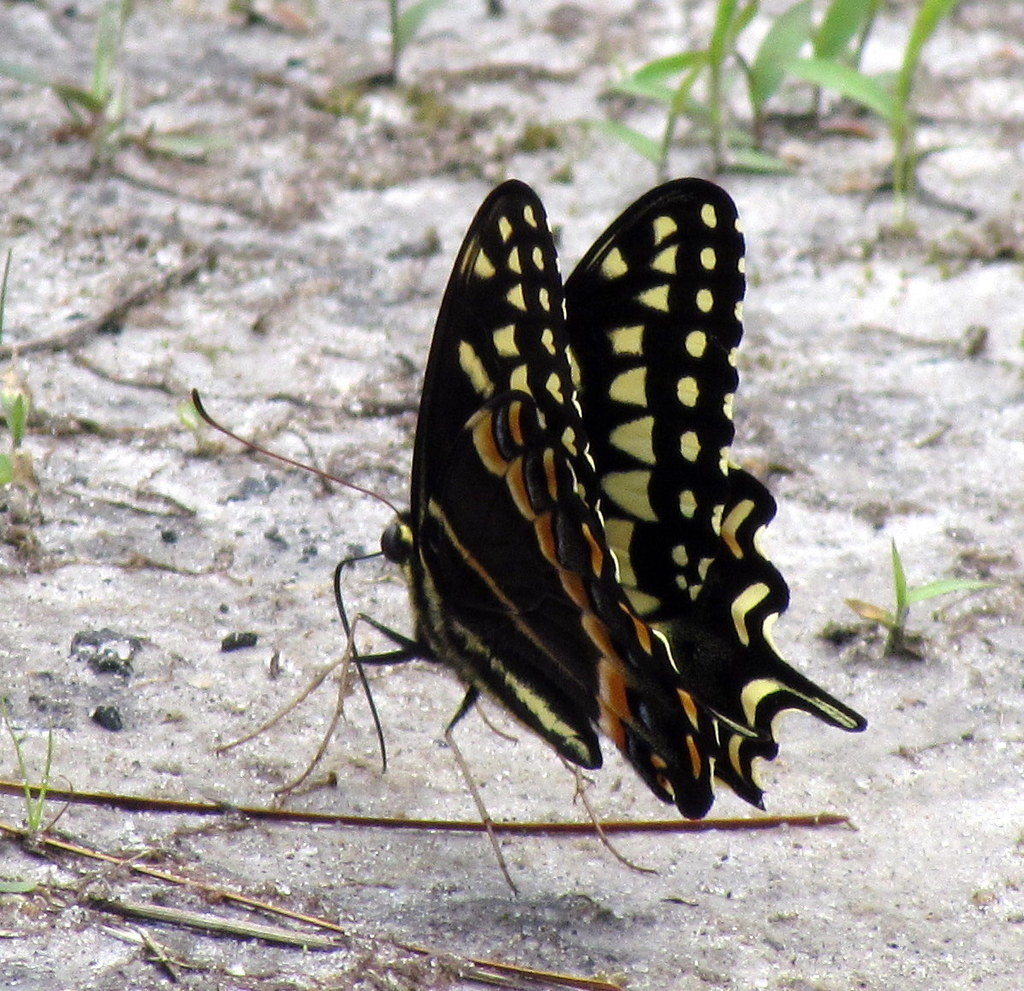Butterfly: (286, 187, 881, 821)
